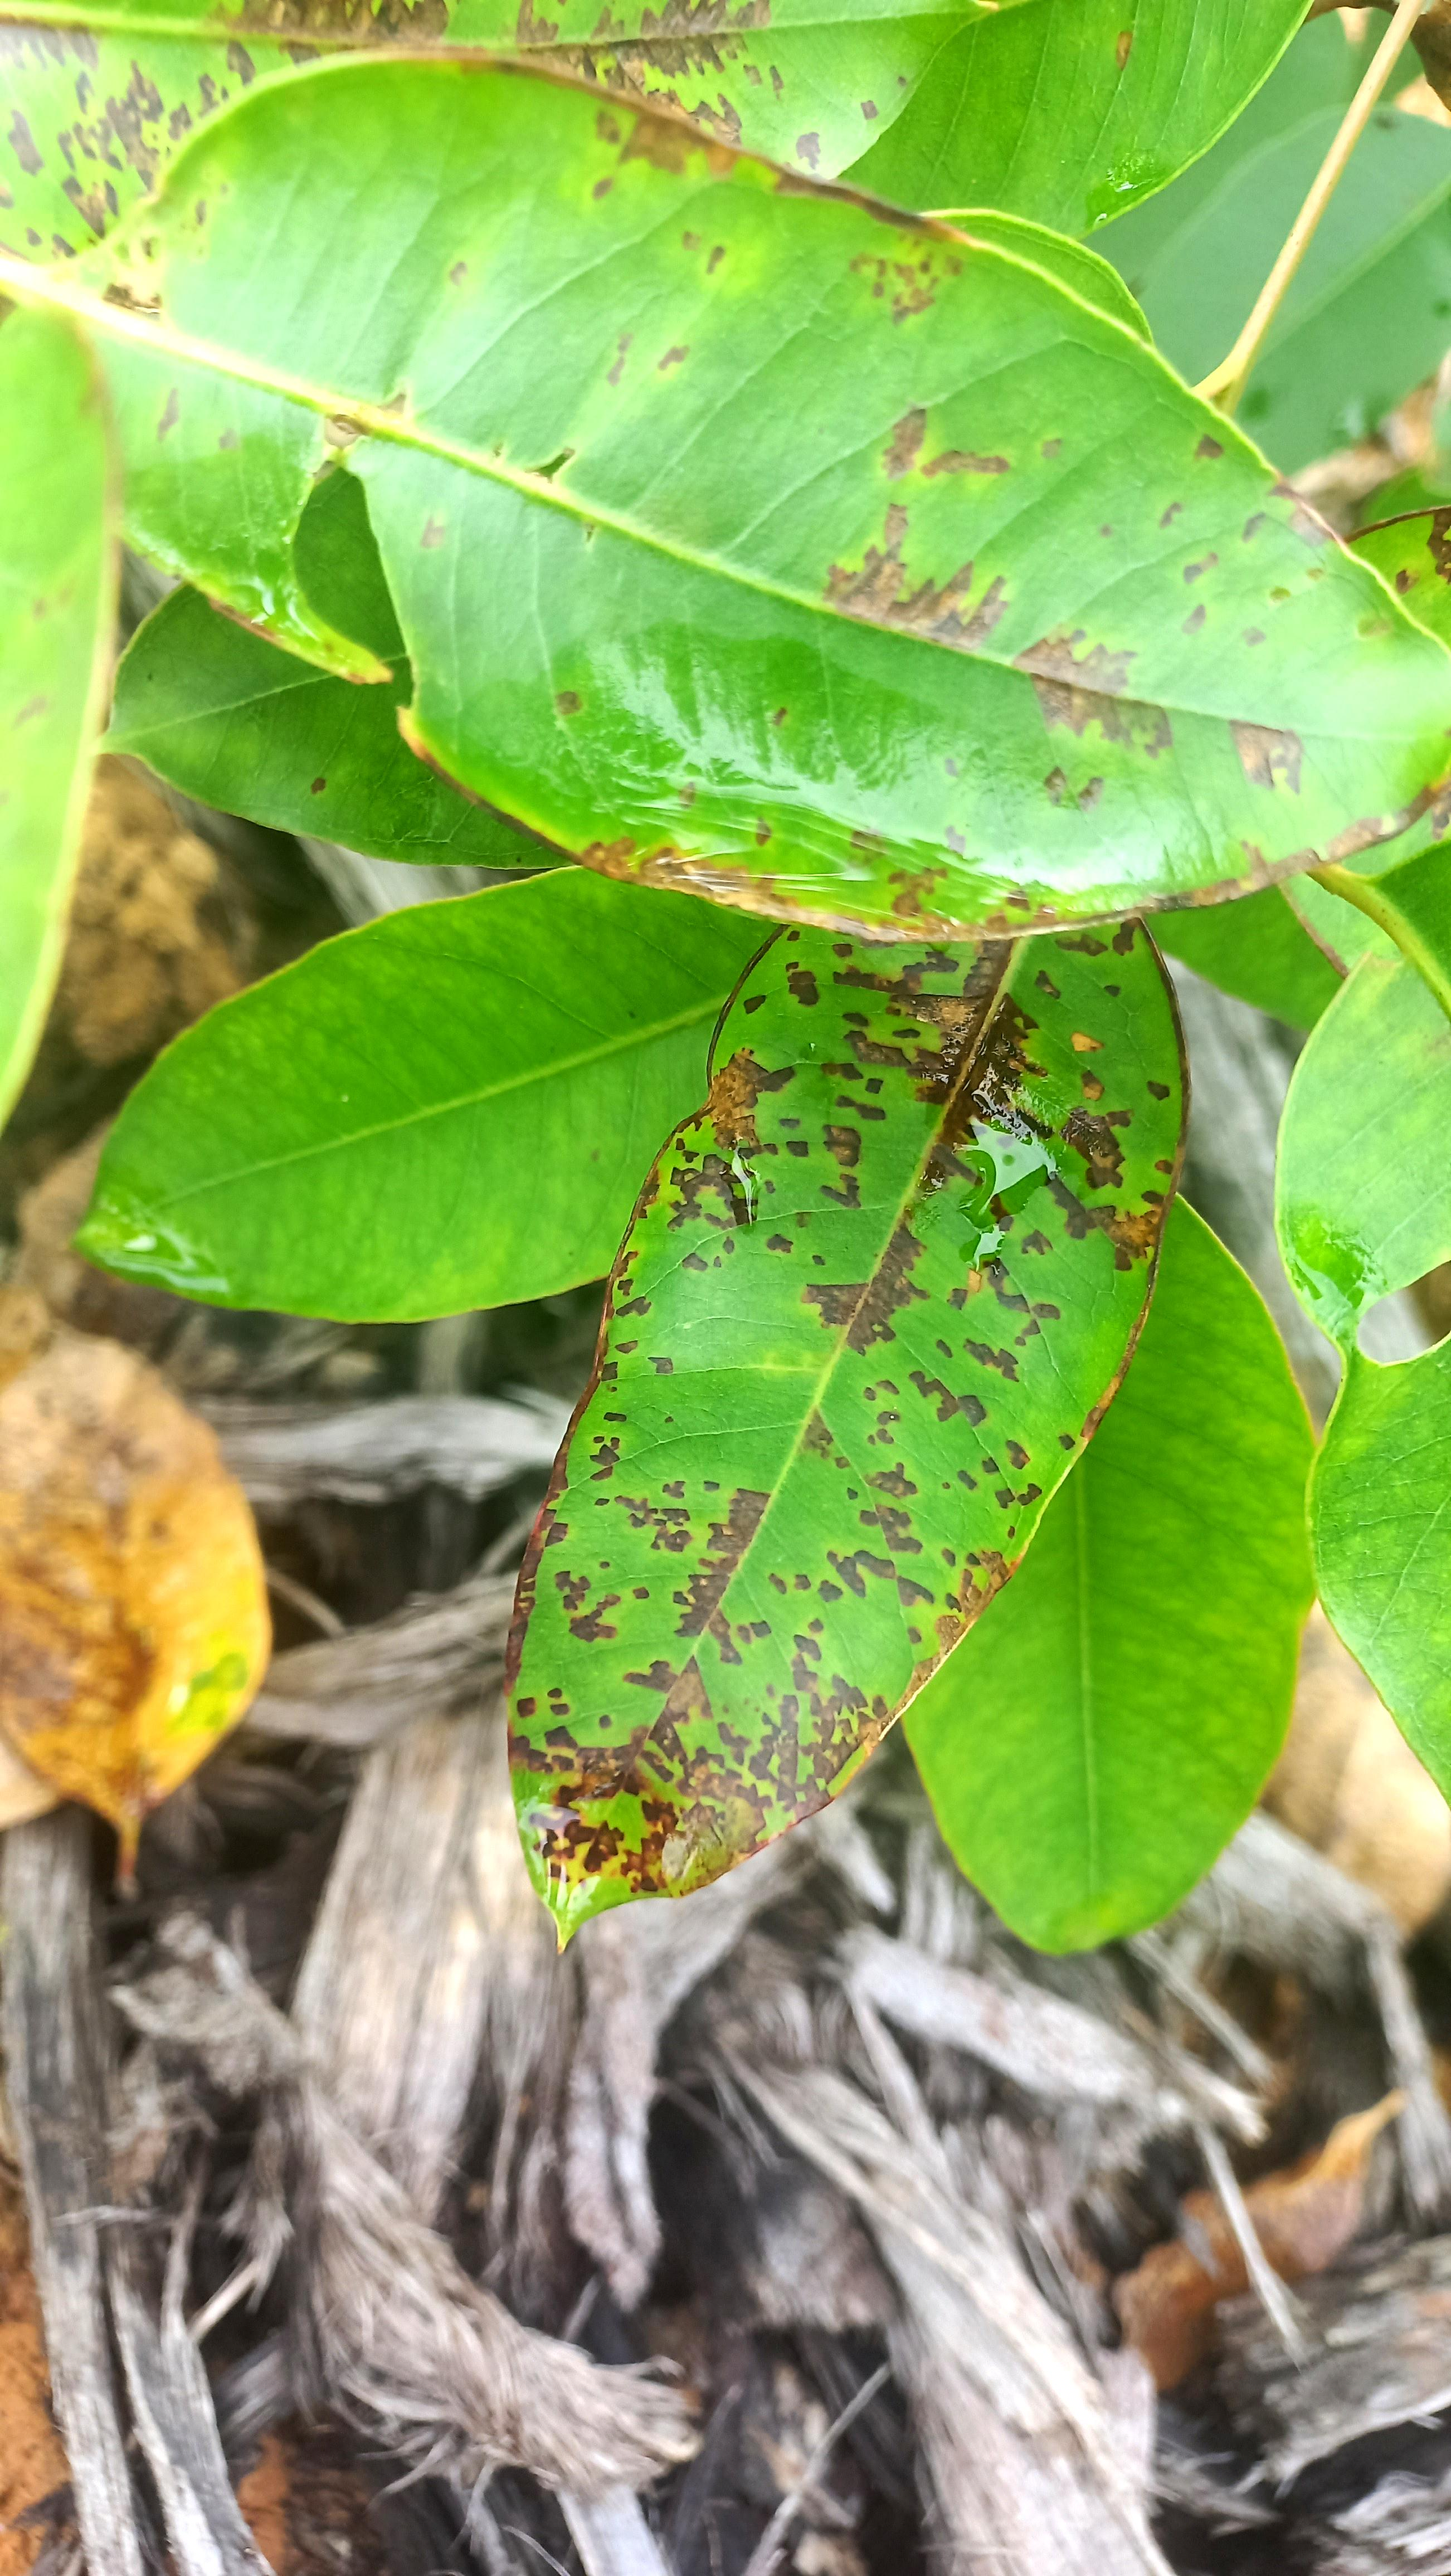Xanthomonas: (0, 0, 1451, 927), (497, 938, 1196, 1930)
